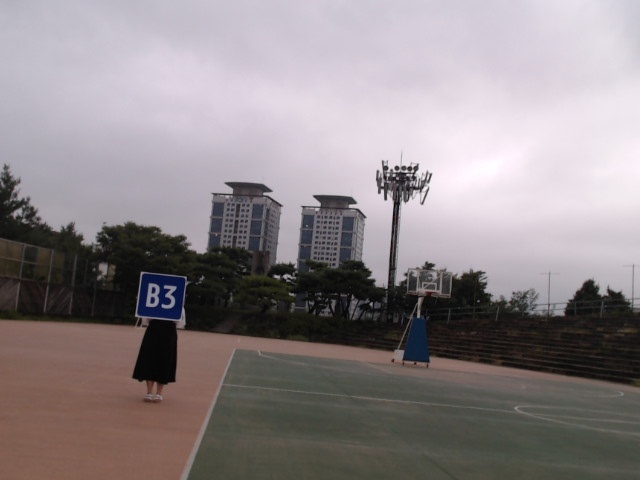delivery_b3: (136, 271, 187, 321)
